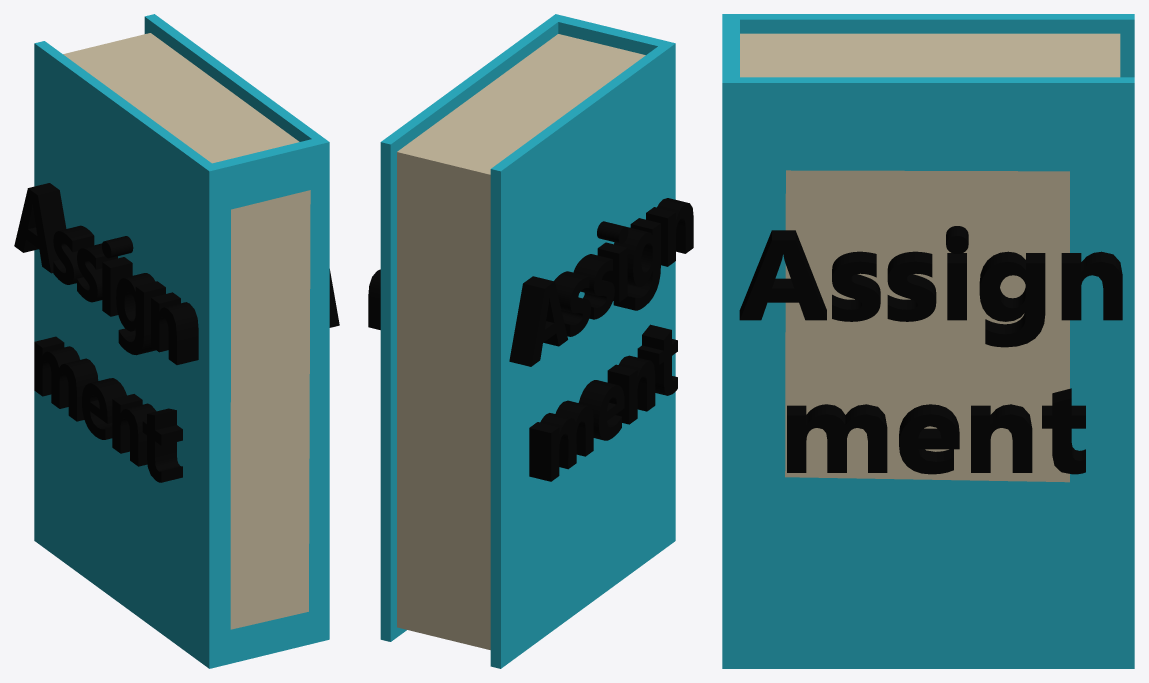
File: assignment.fbx
The picture shows the model from 3 angles, left to right: view 1: azimuth 30°, elevation 25°; view 2: azimuth 150°, elevation 25°; view 3: azimuth 270°, elevation 25°; orthographic projection. The views are drawn at different scales.
Visible parts, largest first — view 1: node_id9, node_id7, node_id37 (×2); view 2: node_id9, node_id7, node_id37 (×2), node_id49; view 3: node_id9, node_id7, node_id49 (×2).
Part boxes in pixels (x1,y1,x2,y2): node_id9: (34,14,329,668); node_id7: (63,33,310,629); node_id37 (×2): (14,183,198,482); node_id9: (380,14,675,668); node_id7: (397,34,645,649); node_id37 (×2): (509,198,693,481); node_id49: (368,269,380,329); node_id9: (722,14,1134,668); node_id7: (740,33,1120,482); node_id49 (×2): (739,226,1122,474).
Size of the model in its own units: 0.1754 by 0.512 by 0.3264.
